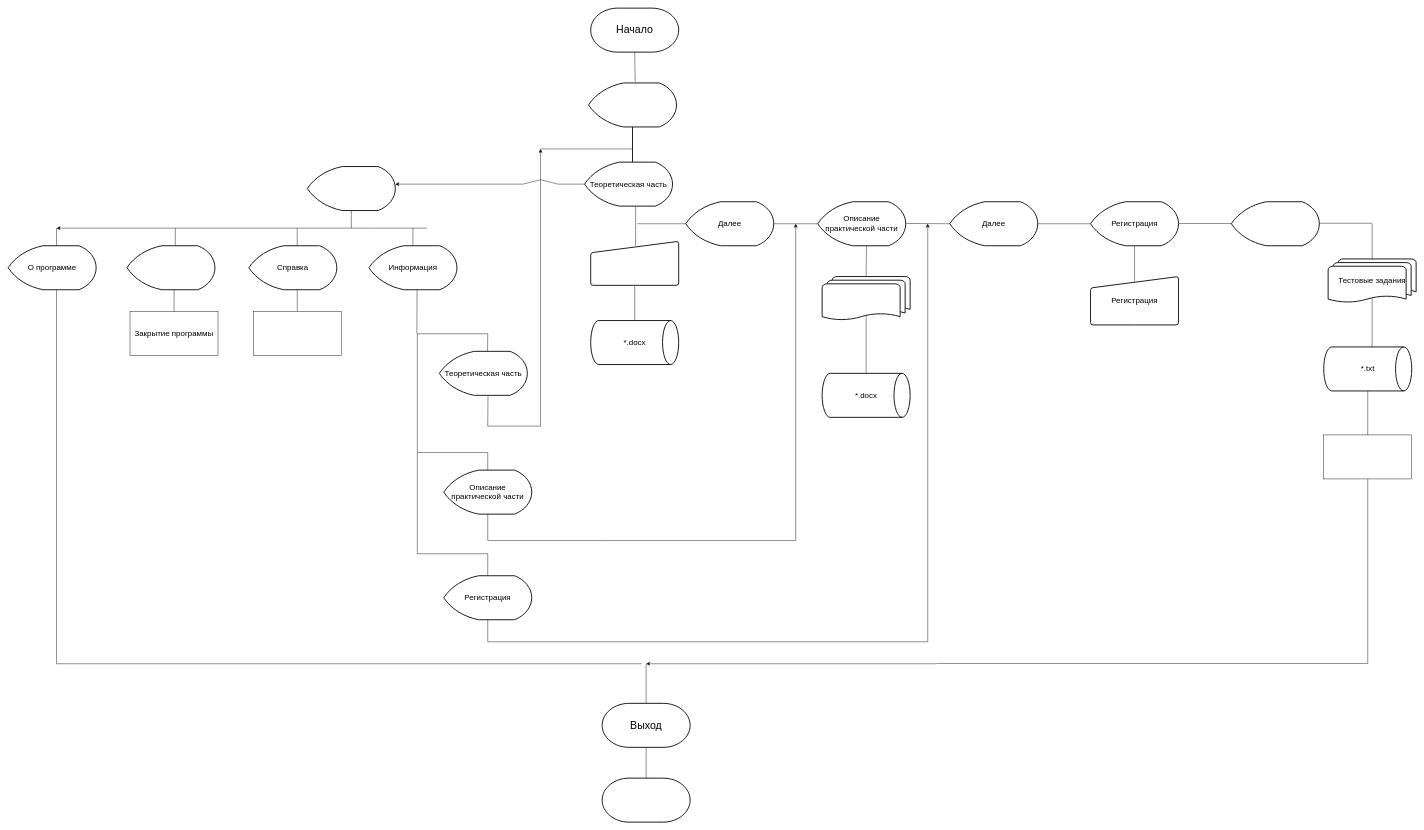
This 1424x830 diagram has some shape labels left out. The shapes that lost their labels are listed below. From the top down, each one's box as (x1, y1, x2, y2) in pixels, then its label:
(588, 82, 677, 127): Заставка
(307, 166, 396, 211): Меню
(1231, 201, 1320, 246): Тест
(126, 245, 215, 290): Файл
(590, 241, 679, 286): Выбор темы
(821, 276, 910, 321): Генерирование теории
(253, 311, 341, 356): Информация о программе
(1323, 434, 1412, 479): Вывод результатов
(601, 777, 690, 822): Конец
